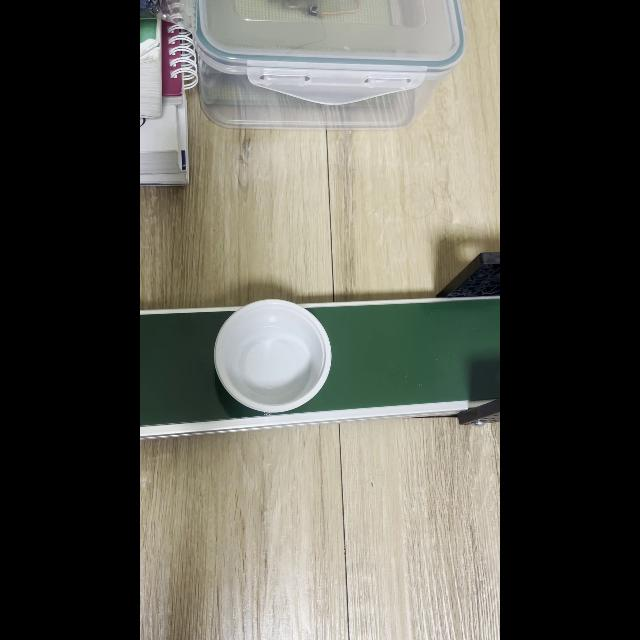clean: (217, 308, 326, 408)
